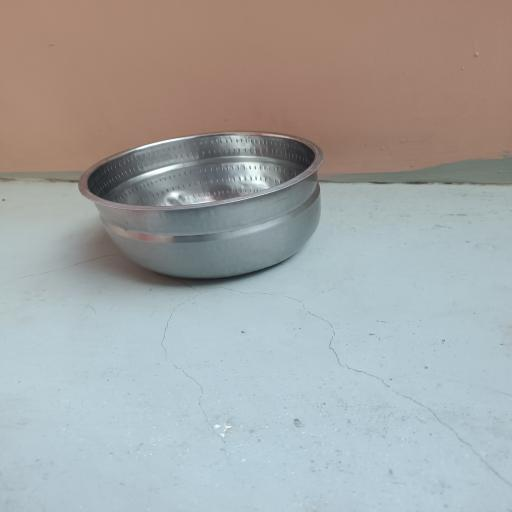vessel: (79, 131, 323, 278)
